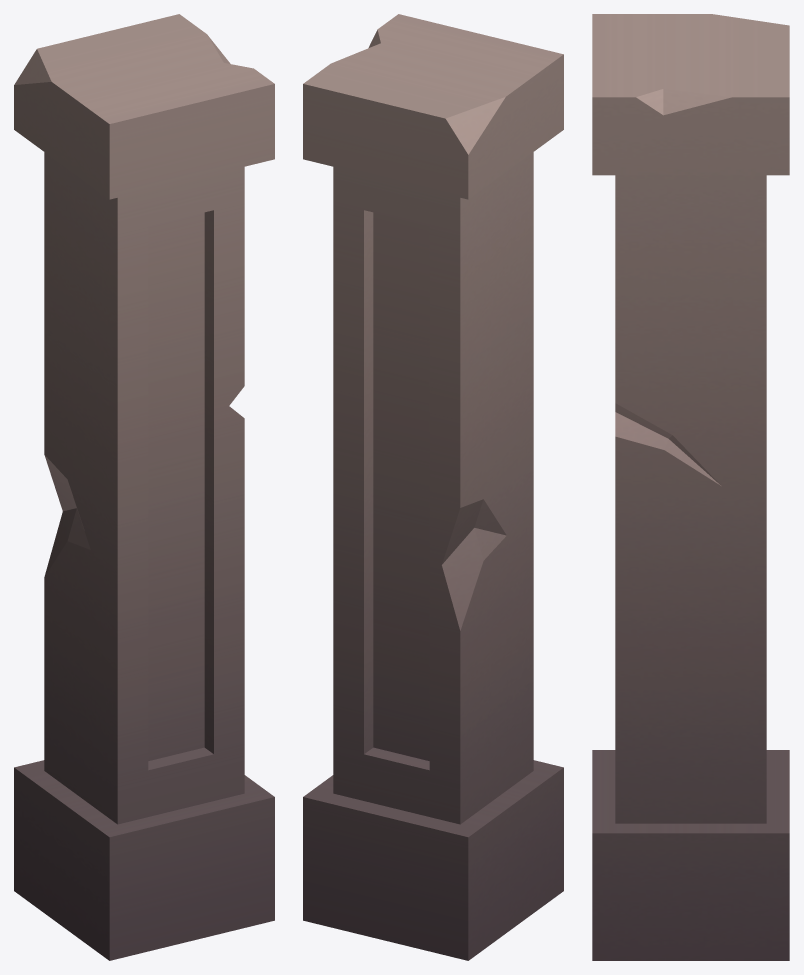
File: fenceBPillar4.glb
3 renders of one model, left to right at view 1: azimuth 30°, elevation 25°; view 2: azimuth 150°, elevation 25°; view 3: azimuth 270°, elevation 25°, orthographic. The views are drawn at different scales.
Parts seen in each view (by area): view 1: fenceBPillar4; view 2: fenceBPillar4; view 3: fenceBPillar4.
Boxes of the visible parts, x1,y1,x2,y2 form: fenceBPillar4: [14, 14, 274, 960]; fenceBPillar4: [303, 14, 563, 960]; fenceBPillar4: [592, 14, 789, 960].
Size of the model in its own units: 0.359 by 1.74 by 0.359.
1 material, 1 textured.
